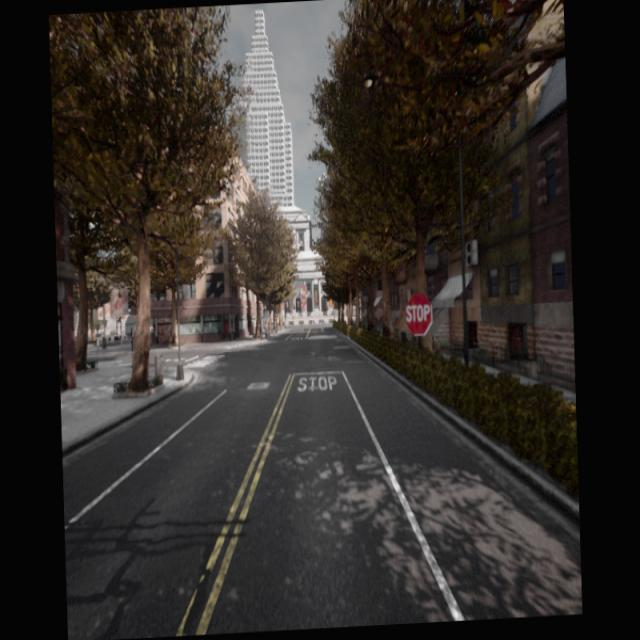stop sign: (402, 289, 434, 338)
